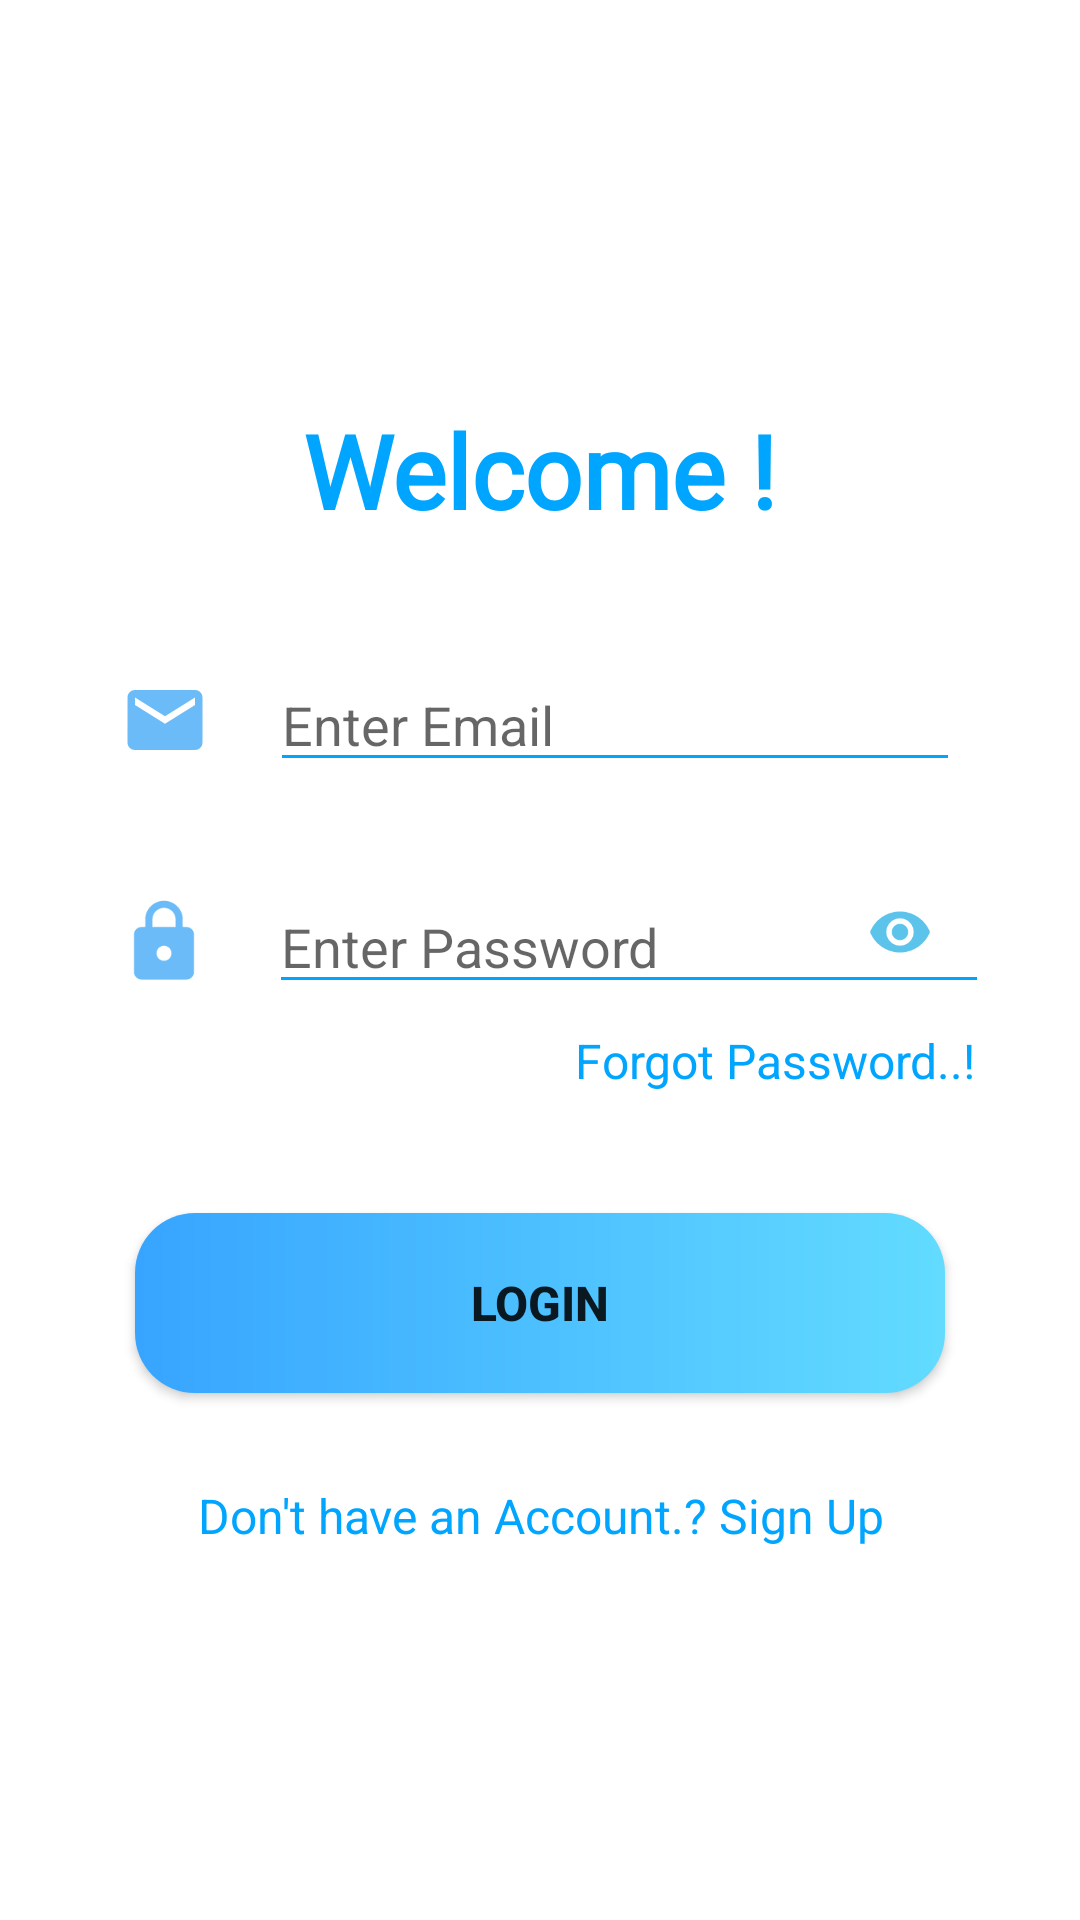

Icons on this 1080 × 1920 Android screen, each with the point to tap as (x,y):
eyeopen: (900,932)
lock: (164,940)
